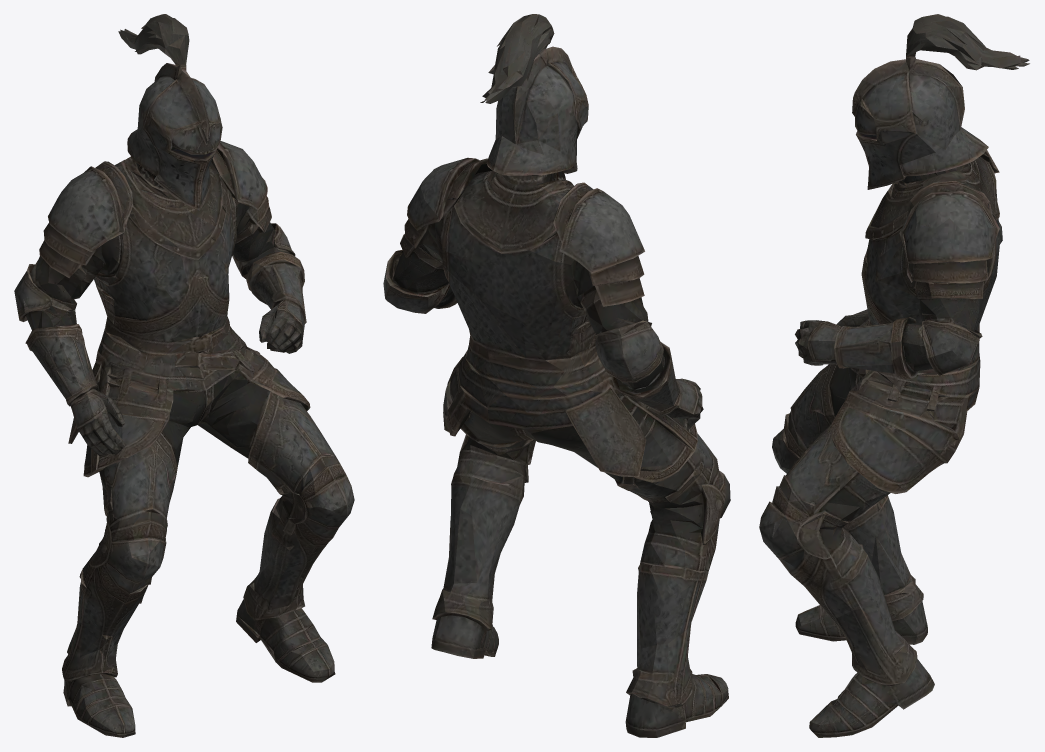
Rendered from knight_seated.glb.
3 views of the same model, side by side, from view 1: azimuth 30°, elevation 25°; view 2: azimuth 150°, elevation 25°; view 3: azimuth 270°, elevation 25° (orthographic). The views are drawn at different scales.
Parts seen in each view (by area): view 1: output_unwrapped; view 2: output_unwrapped; view 3: output_unwrapped.
Boxes of the visible parts, box(x1,y1,x2,y2) form: output_unwrapped: box(14, 14, 354, 737); output_unwrapped: box(383, 14, 730, 737); output_unwrapped: box(759, 14, 1029, 737).
Size of the model in its own units: 0.7999 by 1.9 by 0.6992.
1 material, 1 textured.
